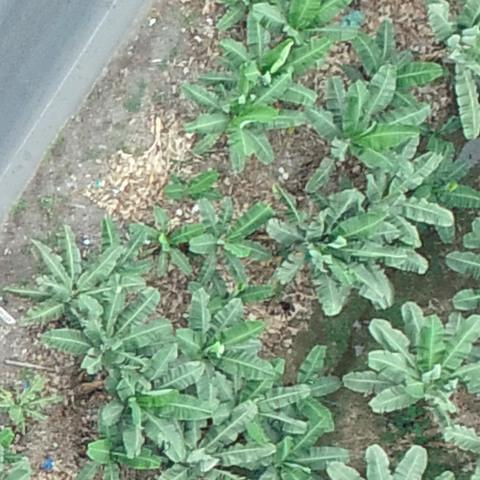Banana-plant: (354, 299, 479, 417), (185, 69, 310, 179), (7, 230, 133, 337), (297, 82, 408, 191), (94, 344, 204, 449), (170, 296, 275, 402), (360, 169, 459, 271), (347, 25, 447, 124), (180, 196, 278, 294), (152, 404, 278, 480), (240, 0, 340, 77), (267, 198, 350, 286)
